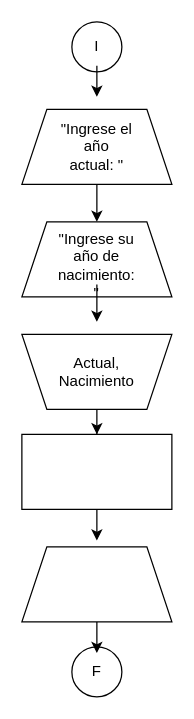
Some shapes in this 194 by 719 pixel diagram are drawn without their labels. Here are the shapes that lost their labels. From the top down, the box of each, then its label:
(21, 433, 172, 509): R = Actual - Nacimiento
(21, 546, 172, 622): "Ustred tiene " + R + "años"
